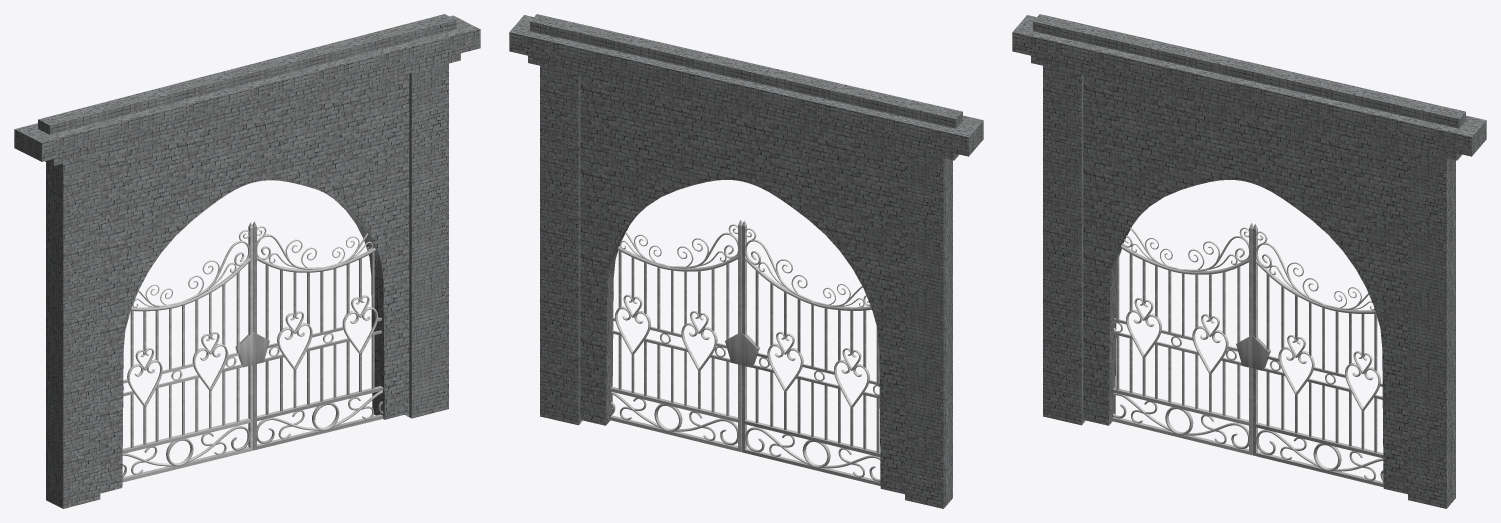
Rendered from puertasnlet.obj.
The picture shows the model from 3 angles, left to right: view 1: azimuth 30°, elevation 25°; view 2: azimuth 150°, elevation 25°; view 3: azimuth 330°, elevation 25°; orthographic projection.
Parts seen in each view (by area): view 1: puerta; view 2: puerta; view 3: puerta.
Boxes of the visible parts, <box> form: puerta: <box>14,14,480,508</box>; puerta: <box>509,14,983,508</box>; puerta: <box>1012,14,1486,508</box>.
Size of the model in its own units: 63.29 by 51.48 by 6.76.
2 materials, 2 textured.
